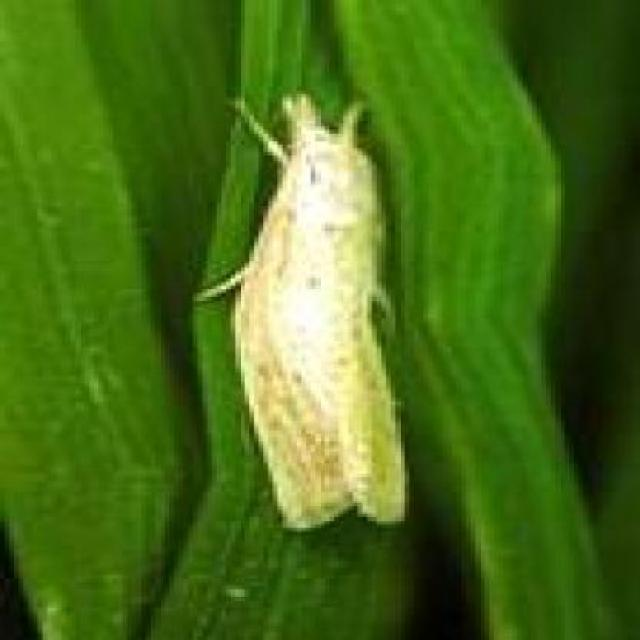stem-borer: (186, 92, 414, 536)
